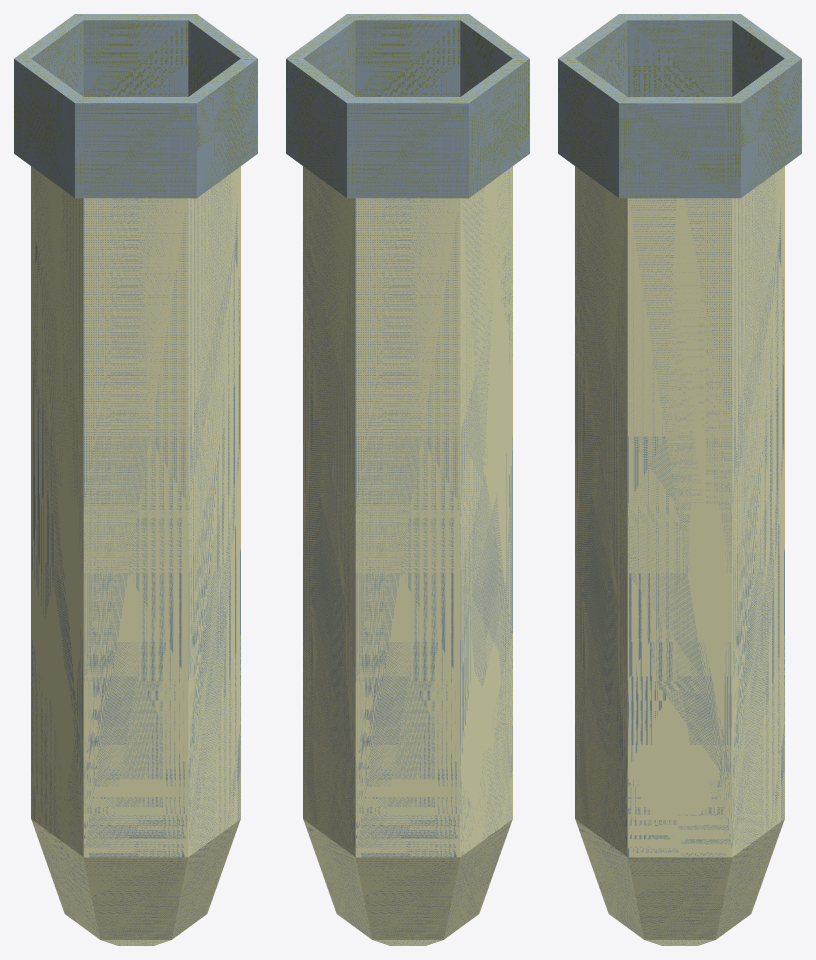
File: probir.fbx
The picture shows the model from 3 angles, left to right: view 1: azimuth 30°, elevation 25°; view 2: azimuth 150°, elevation 25°; view 3: azimuth 270°, elevation 25°; orthographic projection.
Visible parts, largest first — view 1: Model; view 2: Model; view 3: Model.
Part boxes in pixels (x1,y1,x2,y2): Model: (14,14,257,945); Model: (286,14,529,945); Model: (558,14,801,945).
Size of the model in its own units: 0.0201 by 0.092 by 0.0233.
